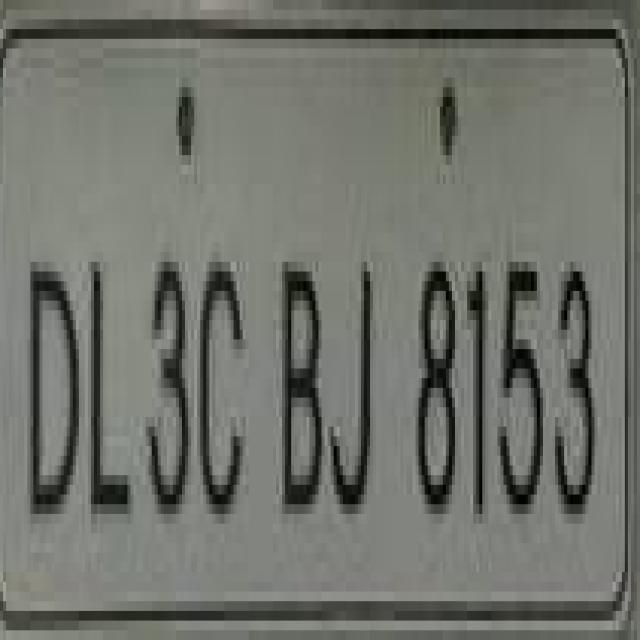license_plate: (0, 39, 616, 640)
